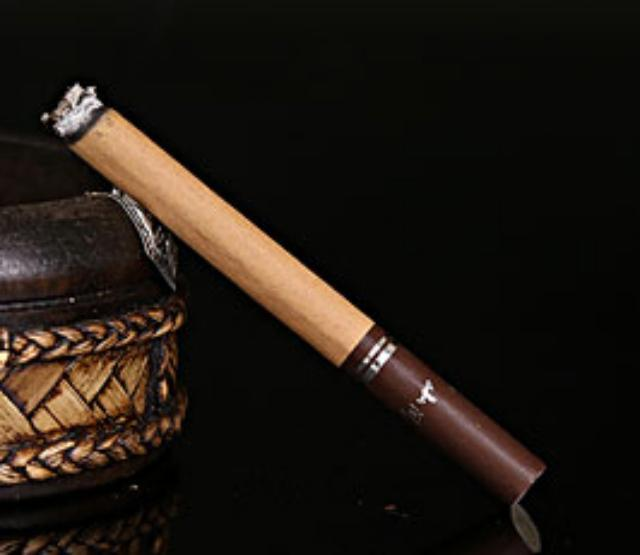Smoking: (32, 76, 546, 500)
